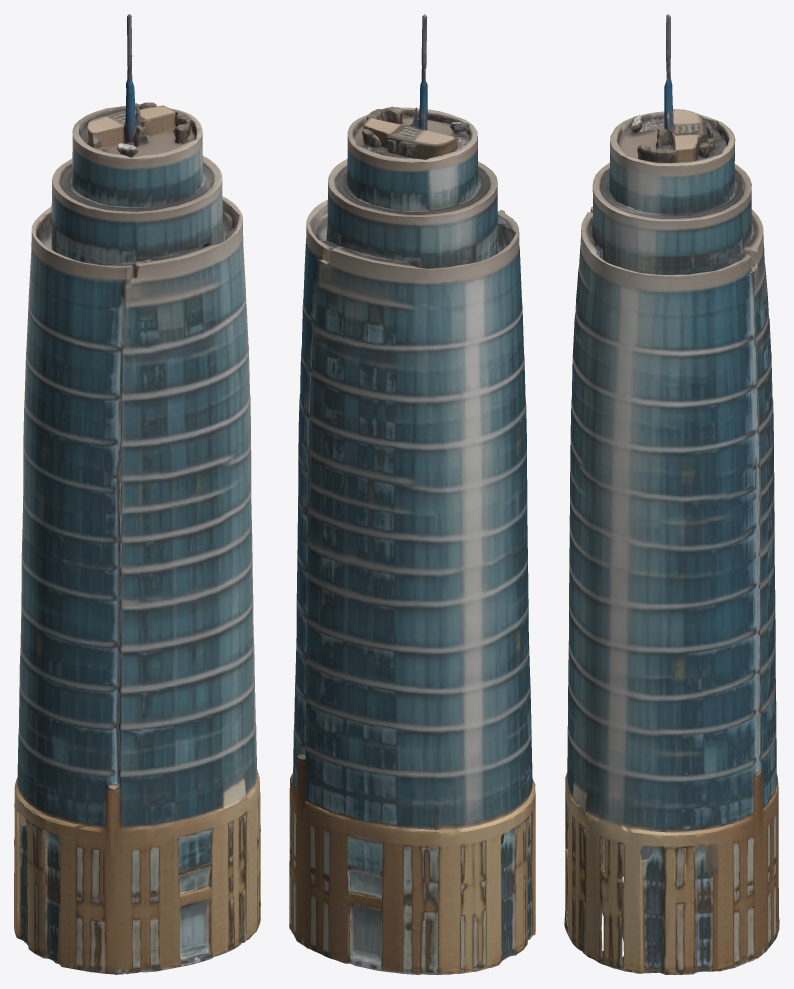
The model's file is r3_glass_setback_c.glb.
3 renders of one model, left to right at view 1: azimuth 30°, elevation 25°; view 2: azimuth 150°, elevation 25°; view 3: azimuth 270°, elevation 25°, orthographic.
Visible parts, largest first — view 1: geometry_0; view 2: geometry_0; view 3: geometry_0.
Boxes of the visible parts, x1,y1,x2,y2 form: geometry_0: (14,14,260,974); geometry_0: (289,14,535,974); geometry_0: (564,14,779,974).
Size of the model in its own units: 32 by 130 by 28.
1 material, 1 textured.
